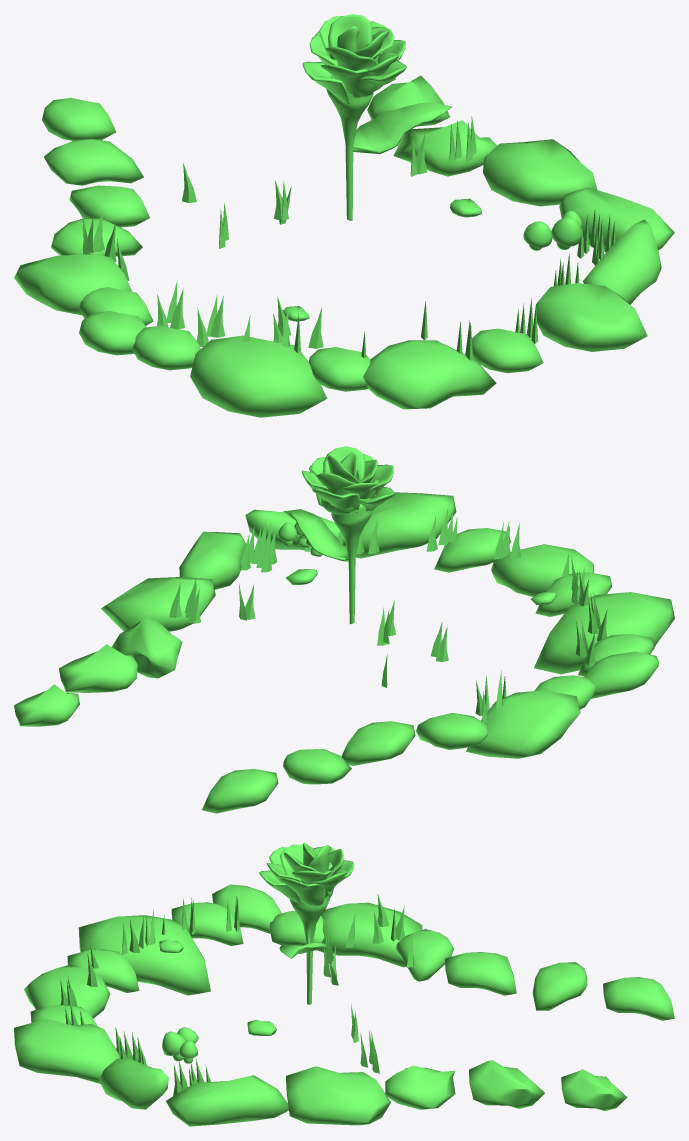
File: rose.fbx
3 renders of one model, top to bottom at view 1: azimuth 30°, elevation 25°; view 2: azimuth 150°, elevation 25°; view 3: azimuth 270°, elevation 25°, orthographic. The views are drawn at different scales.
Parts seen in each view (by area): view 1: Sphere.008; view 2: Sphere.008; view 3: Sphere.008.
Part boxes in pixels (x1,y1,x2,y2): Sphere.008: (14,14,674,417); Sphere.008: (14,446,674,813); Sphere.008: (14,842,674,1126).
Size of the model in its own units: 2052 by 911 by 2544.
